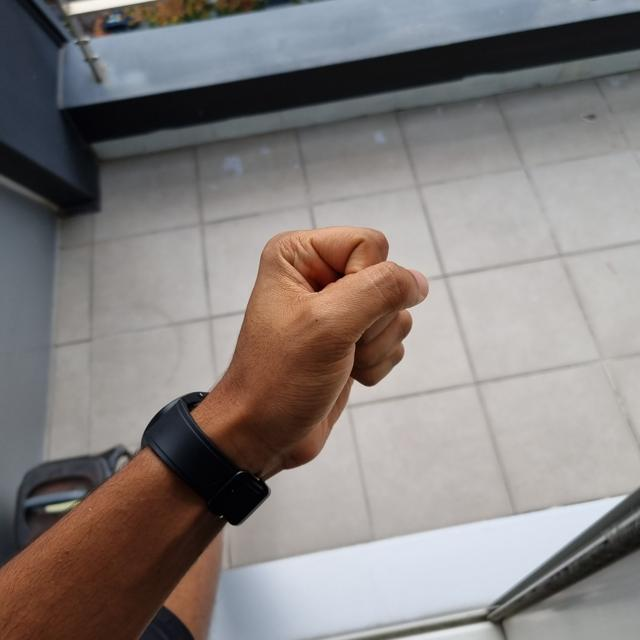Rock: (201, 223, 424, 471)
